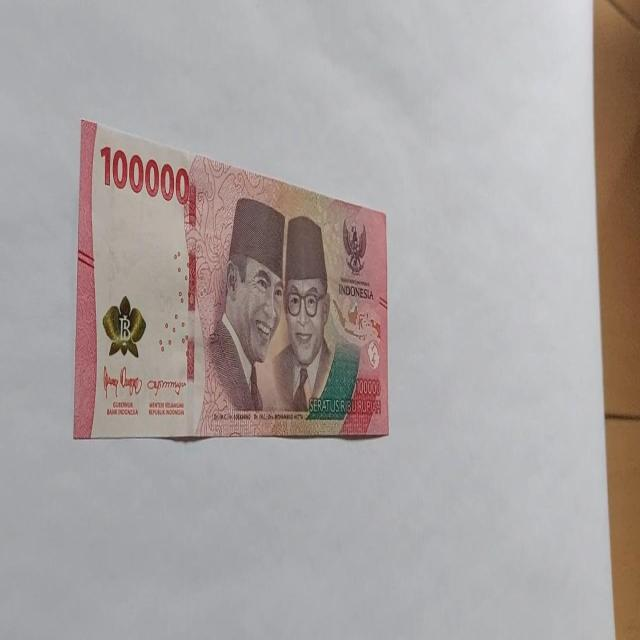Kertas: (74, 118, 390, 442), (99, 143, 191, 207)
